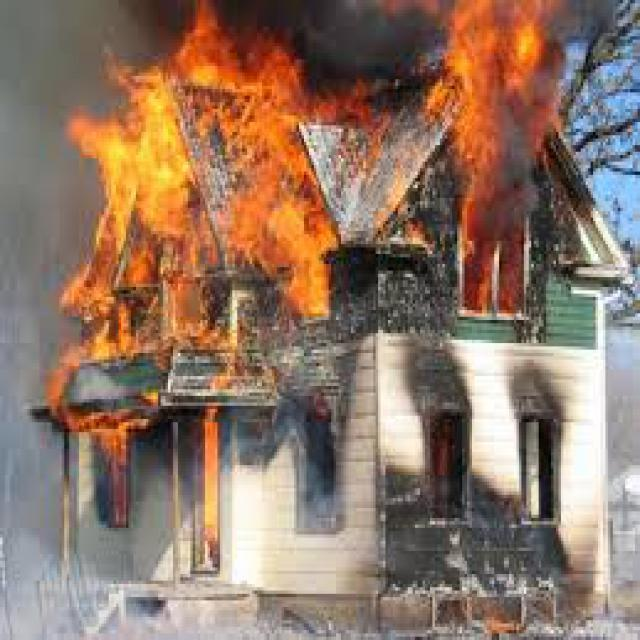Fire: (72, 8, 350, 366), (417, 0, 568, 324), (43, 386, 161, 507), (188, 393, 236, 548)
Smoke: (0, 112, 65, 350), (5, 5, 136, 114), (300, 0, 425, 80)
